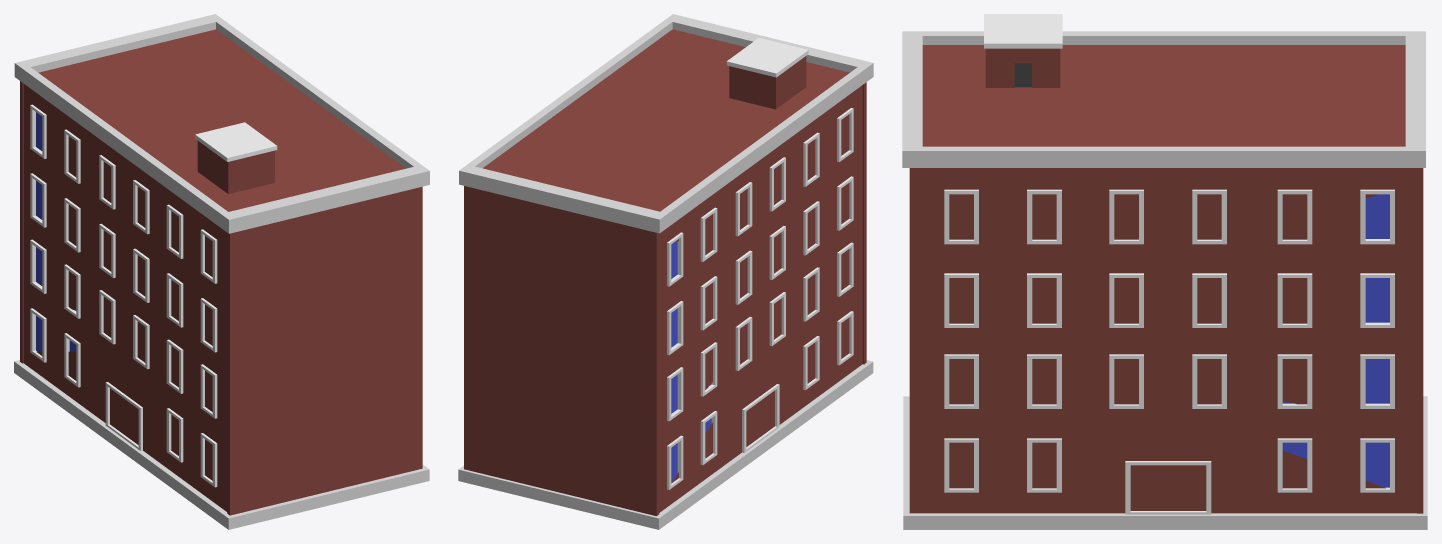
3 renders of one model, left to right at view 1: azimuth 30°, elevation 25°; view 2: azimuth 150°, elevation 25°; view 3: azimuth 270°, elevation 25°, orthographic. The views are drawn at different scales.
Parts seen in each view (by area): view 1: wall02_B, wall04_B, roof01_B, base_B, roof02_B, wall03_B; view 2: wall02_B, wall03_B, roof01_B, base_B, roof02_B, wall04_B; view 3: wall01_B, roof01_B, base_B, roof02_B, wall03_B, wall04_B.
Boxes of the visible parts, x1=… form: wall02_B: x1=23, y1=84, x2=227, y2=511; wall04_B: x1=227, y1=186, x2=422, y2=515; roof01_B: x1=14, y1=14, x2=429, y2=233; base_B: x1=14, y1=360, x2=429, y2=529; roof02_B: x1=195, y1=122, x2=277, y2=193; wall03_B: x1=20, y1=81, x2=23, y2=363; wall02_B: x1=659, y1=85, x2=862, y2=512; wall03_B: x1=464, y1=186, x2=659, y2=516; roof01_B: x1=459, y1=14, x2=873, y2=233; base_B: x1=458, y1=360, x2=873, y2=529; roof02_B: x1=726, y1=38, x2=808, y2=109; wall04_B: x1=862, y1=82, x2=866, y2=364; wall01_B: x1=912, y1=168, x2=1416, y2=514; roof01_B: x1=902, y1=31, x2=1425, y2=167; base_B: x1=903, y1=396, x2=1427, y2=529; roof02_B: x1=984, y1=14, x2=1062, y2=87; wall03_B: x1=1417, y1=168, x2=1423, y2=513; wall04_B: x1=909, y1=168, x2=912, y2=513.
Size of the model in its own units: 890 by 1440 by 1650.
